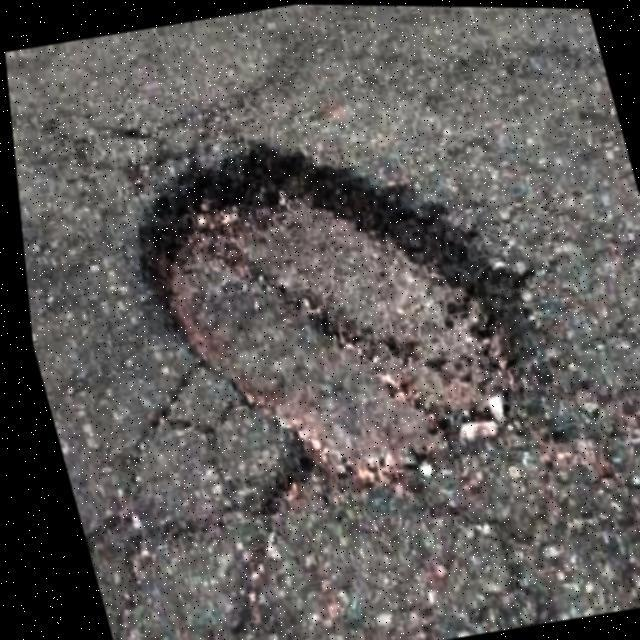pothole: (100, 96, 564, 527)
